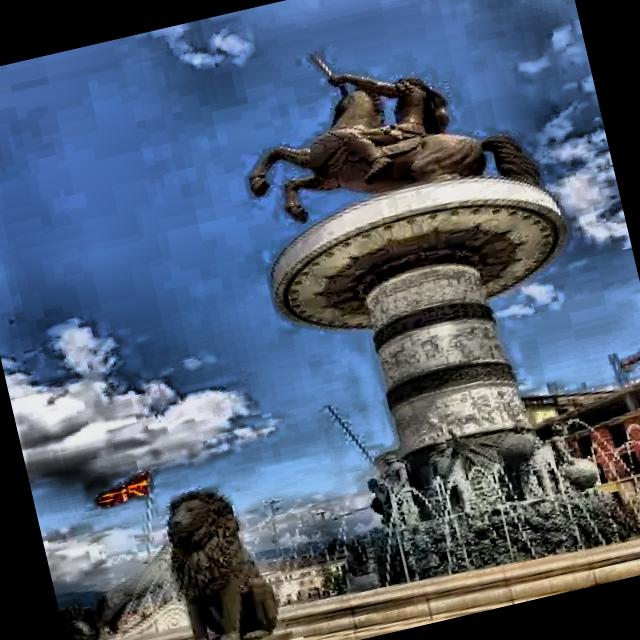alexander the great monument: (208, 1, 634, 626)
